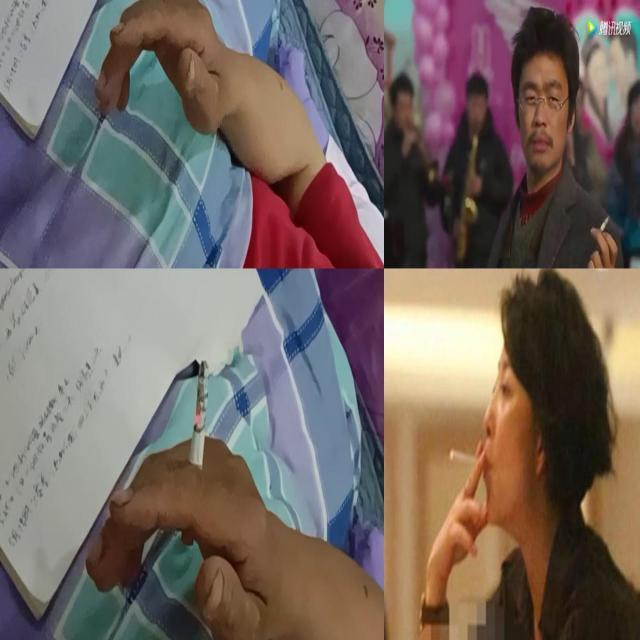smoking: (180, 360, 210, 546), (152, 0, 168, 55), (449, 447, 477, 469), (598, 216, 611, 233)
